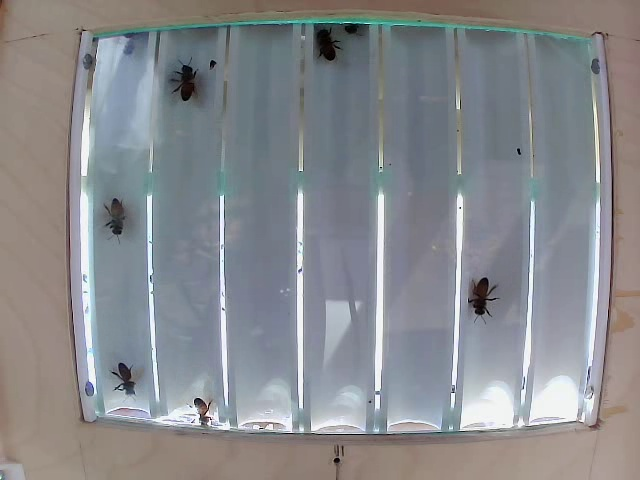bee: (103, 347, 138, 401), (167, 66, 202, 106), (96, 187, 129, 229), (463, 272, 490, 319)
